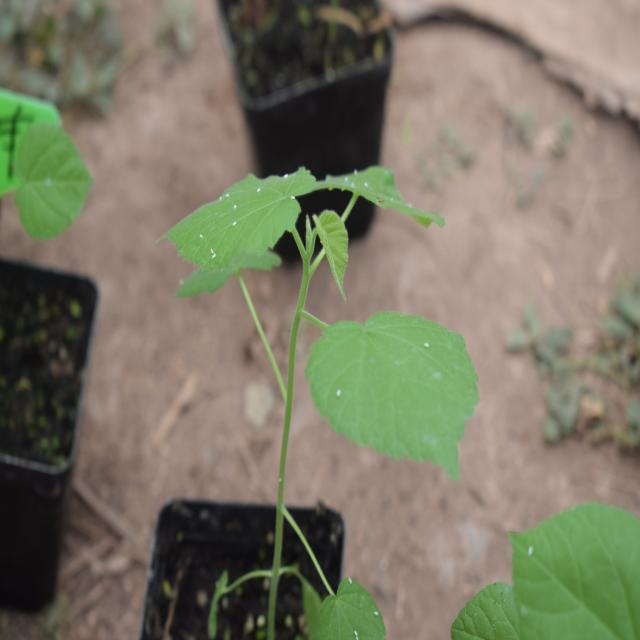abutilon theophrasti: (159, 144, 487, 537)
